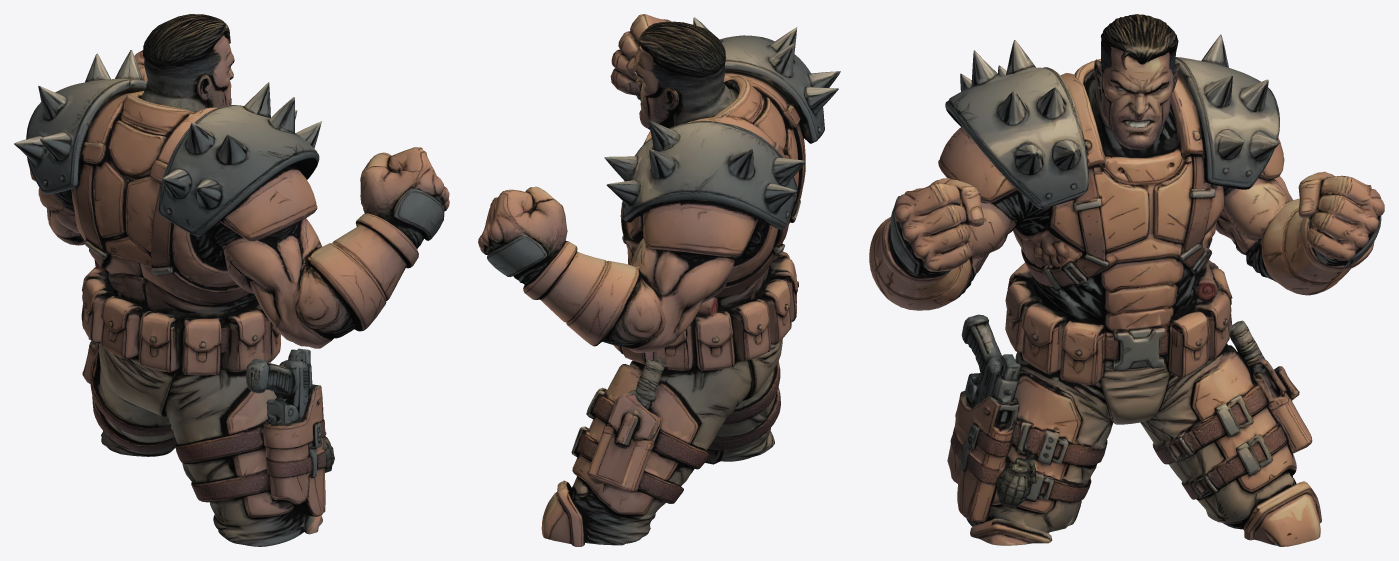
Rendered from warbird3d.glb.
The picture shows the model from 3 angles, left to right: view 1: azimuth 30°, elevation 25°; view 2: azimuth 150°, elevation 25°; view 3: azimuth 270°, elevation 25°; orthographic projection. The views are drawn at different scales.
Visible parts, largest first — view 1: tripo_node_1b8c3a9e-e225-4867-84bc-3283cd54517a; view 2: tripo_node_1b8c3a9e-e225-4867-84bc-3283cd54517a; view 3: tripo_node_1b8c3a9e-e225-4867-84bc-3283cd54517a.
Boxes of the visible parts, bbox=[...] form: tripo_node_1b8c3a9e-e225-4867-84bc-3283cd54517a: bbox=[14, 14, 449, 546]; tripo_node_1b8c3a9e-e225-4867-84bc-3283cd54517a: bbox=[478, 14, 840, 546]; tripo_node_1b8c3a9e-e225-4867-84bc-3283cd54517a: bbox=[869, 14, 1384, 546].
Bounding box in the file's own units: 0.6785 × 1 × 0.949.
Materials: 1 (1 with a texture image).
